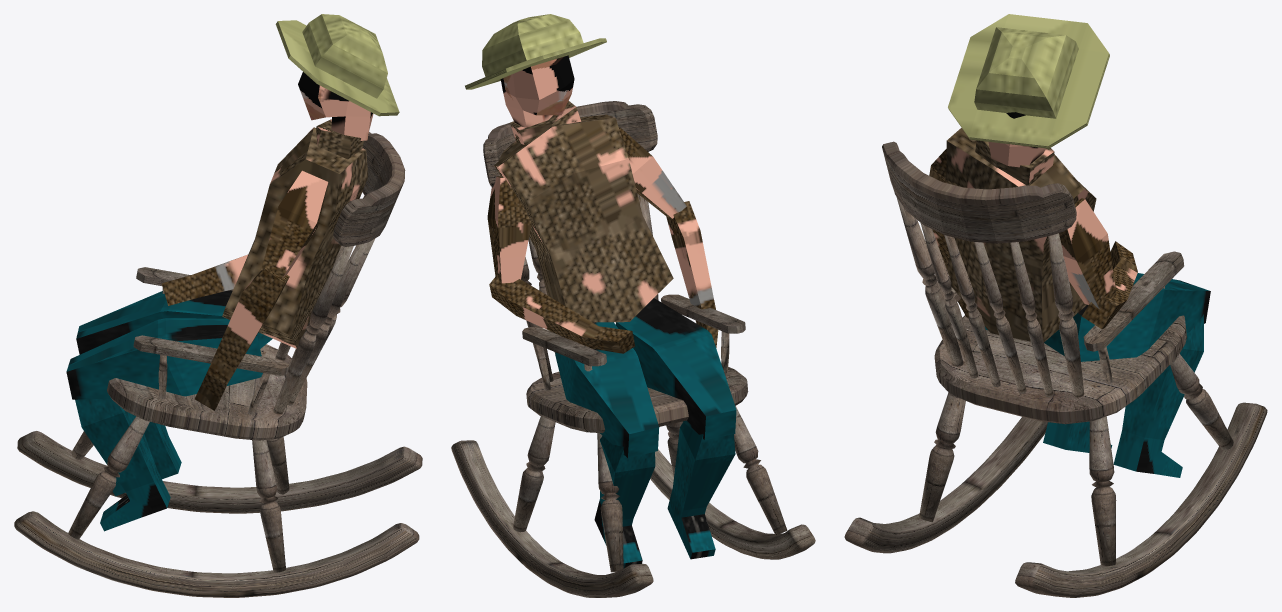
File: persona.obj
3 views of the same model, side by side, from view 1: azimuth 30°, elevation 25°; view 2: azimuth 150°, elevation 25°; view 3: azimuth 270°, elevation 25° (orthographic). The views are drawn at different scales.
Visible parts, largest first — view 1: Cube.277, Cube_Cube.001, Cube.002_Cube.018, Plane.035, Cube.006_Cube, Plane.038, Cube.004_Cube.019, Plane.036, Cube.012_Cube.017, Cube.001_Cube.003, Cube.011_Cube.016, Cube.278 (+8 smaller); view 2: Cube_Cube.001, Cube.277, Cube.002_Cube.018, Plane.038, Cube.001_Cube.003, Cube.004_Cube.019, Cube.006_Cube, Cube.007_Cube.012, Plane.035, Cube.010_Cube.015, Cube.005_Cube.010, Cube.003_Cube.005 (+7 smaller); view 3: Cube.006_Cube, Cube.277, Plane.035, Cube_Cube.001, Plane.036, Plane.038, Cube.003_Cube.005, Plane.040, Cube.001_Cube.003, Cube.005_Cube.010, Plane.039, Plane.037 (+5 smaller).
Part boxes in pixels (left/top/right/bottom): Cube.277: left=14, top=431, right=422, bottom=597; Cube_Cube.001: left=222, top=127, right=367, bottom=348; Cube.002_Cube.018: left=66, top=318, right=262, bottom=399; Plane.035: left=107, top=344, right=307, bottom=440; Cube.006_Cube: left=275, top=14, right=399, bottom=116; Plane.038: left=68, top=416, right=289, bottom=572; Cube.004_Cube.019: left=75, top=398, right=170, bottom=531; Plane.036: left=333, top=131, right=405, bottom=246; Cube.012_Cube.017: left=194, top=267, right=289, bottom=410; Cube.001_Cube.003: left=76, top=290, right=272, bottom=354; Cube.011_Cube.016: left=261, top=170, right=328, bottom=278; Cube.278: left=133, top=267, right=288, bottom=375; Cube_Cube.001: left=494, top=114, right=673, bottom=322; Cube.277: left=451, top=440, right=815, bottom=597; Cube.002_Cube.018: left=615, top=298, right=736, bottom=440; Plane.038: left=513, top=406, right=787, bottom=572; Cube.001_Cube.003: left=555, top=322, right=659, bottom=457; Cube.004_Cube.019: left=667, top=422, right=735, bottom=559; Cube.006_Cube: left=465, top=14, right=606, bottom=89; Cube.007_Cube.012: left=489, top=275, right=634, bottom=353; Plane.035: left=526, top=367, right=748, bottom=433; Cube.010_Cube.015: left=500, top=55, right=574, bottom=127; Cube.005_Cube.010: left=487, top=176, right=531, bottom=283; Cube.003_Cube.005: left=594, top=436, right=655, bottom=568; Cube.006_Cube: left=948, top=14, right=1109, bottom=148; Cube.277: left=844, top=402, right=1267, bottom=597; Plane.035: left=934, top=315, right=1186, bottom=424; Cube_Cube.001: left=946, top=128, right=1096, bottom=342; Plane.036: left=882, top=141, right=1076, bottom=243; Plane.038: left=919, top=353, right=1233, bottom=565; Cube.003_Cube.005: left=1113, top=314, right=1203, bottom=477; Plane.040: left=896, top=197, right=1084, bottom=397; Cube.001_Cube.003: left=1044, top=273, right=1210, bottom=361; Cube.005_Cube.010: left=1059, top=198, right=1116, bottom=309; Plane.039: left=920, top=222, right=1053, bottom=397; Plane.037: left=944, top=235, right=1026, bottom=393.
Bounding box in the file's own units: 1.43 × 1.8 × 1.21.
6 materials, 6 textured.
